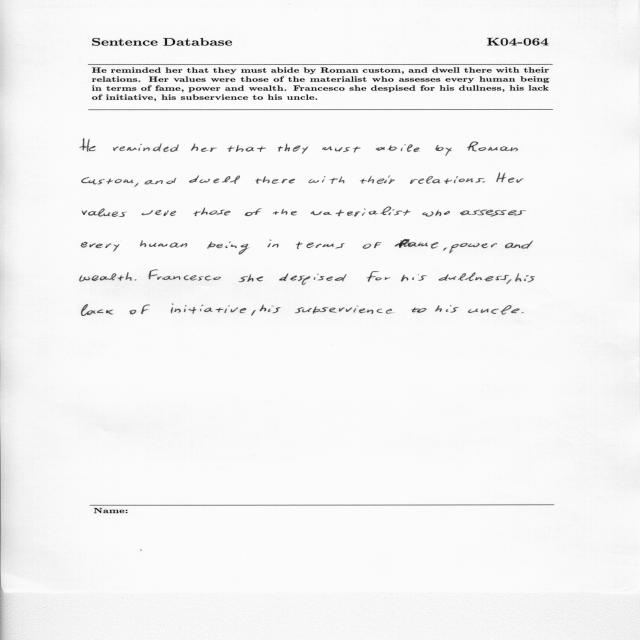word: (311, 207, 410, 217), (279, 273, 347, 285), (149, 270, 221, 281), (295, 306, 393, 314), (171, 304, 247, 314), (439, 273, 509, 282), (113, 143, 179, 152), (410, 176, 484, 184), (467, 141, 518, 152), (207, 242, 250, 255), (468, 305, 520, 315), (449, 243, 497, 253), (80, 272, 132, 281), (460, 210, 526, 217), (189, 175, 240, 184), (395, 239, 439, 249), (82, 177, 134, 185), (83, 208, 127, 217), (81, 304, 114, 316), (82, 242, 120, 252), (140, 240, 187, 248), (376, 144, 420, 152), (296, 242, 345, 249), (193, 208, 231, 217), (278, 143, 308, 154), (255, 176, 295, 184), (360, 175, 395, 184), (496, 172, 524, 183), (309, 176, 345, 184), (227, 145, 266, 152), (323, 146, 361, 153), (367, 271, 391, 282), (505, 240, 533, 249), (191, 143, 217, 152), (80, 138, 96, 152), (145, 178, 177, 185), (142, 210, 177, 216), (129, 305, 150, 315), (239, 274, 264, 282), (422, 210, 450, 217), (435, 145, 452, 156), (435, 305, 458, 313), (401, 275, 427, 282), (515, 273, 535, 282), (273, 209, 297, 216), (260, 305, 281, 313), (362, 242, 382, 249), (245, 208, 262, 216), (268, 239, 279, 248), (412, 307, 427, 313), (251, 310, 256, 316), (507, 279, 512, 284), (135, 183, 139, 187), (444, 248, 448, 251), (483, 181, 485, 183), (521, 312, 524, 313), (135, 280, 137, 281)
